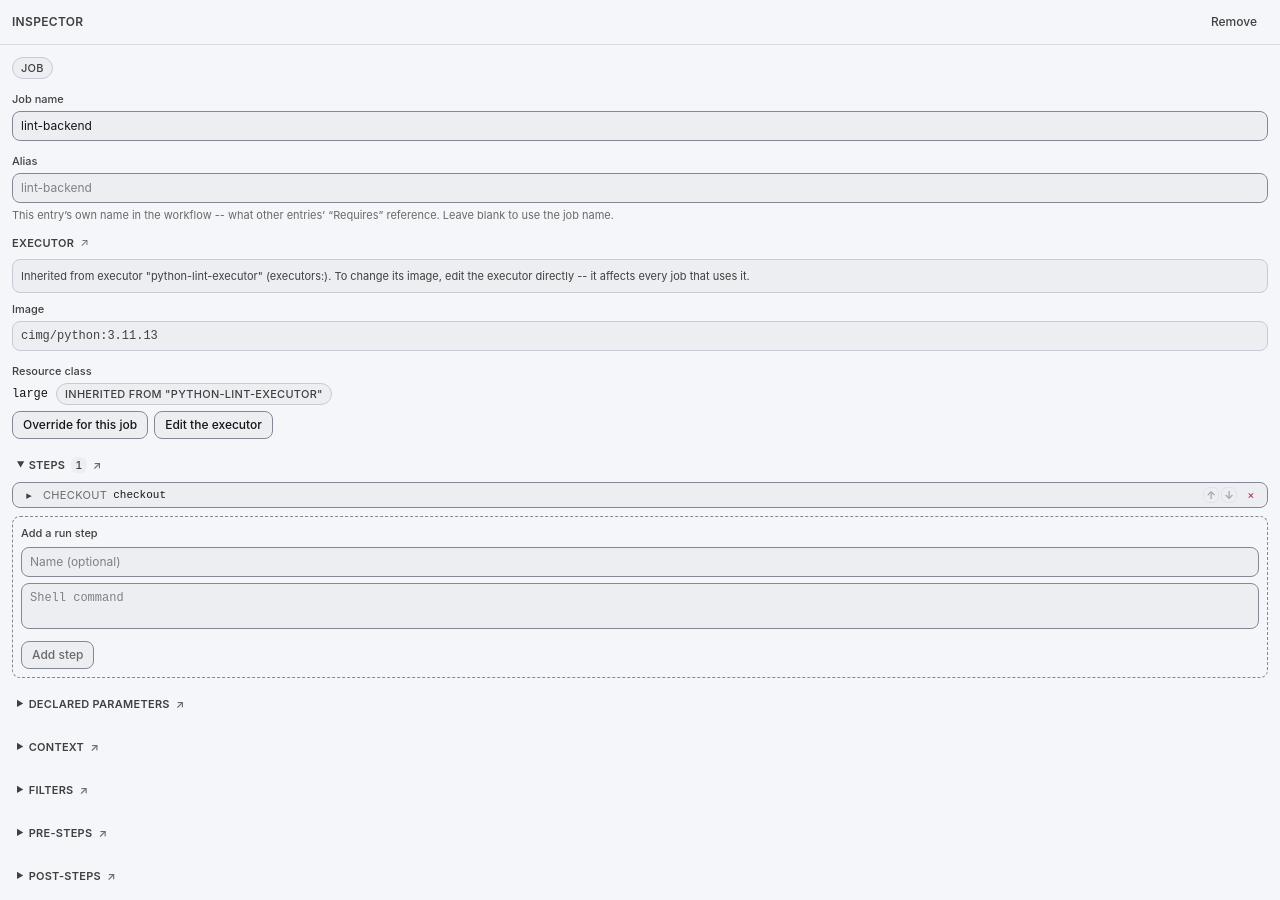
Inspector -- executor resolution (issue #27) › offers CircleCI’s resource tables, grouped by execution environment, not the schema enum
Click the button "Override for this job" at point(80, 425), box [12, 411, 148, 439]
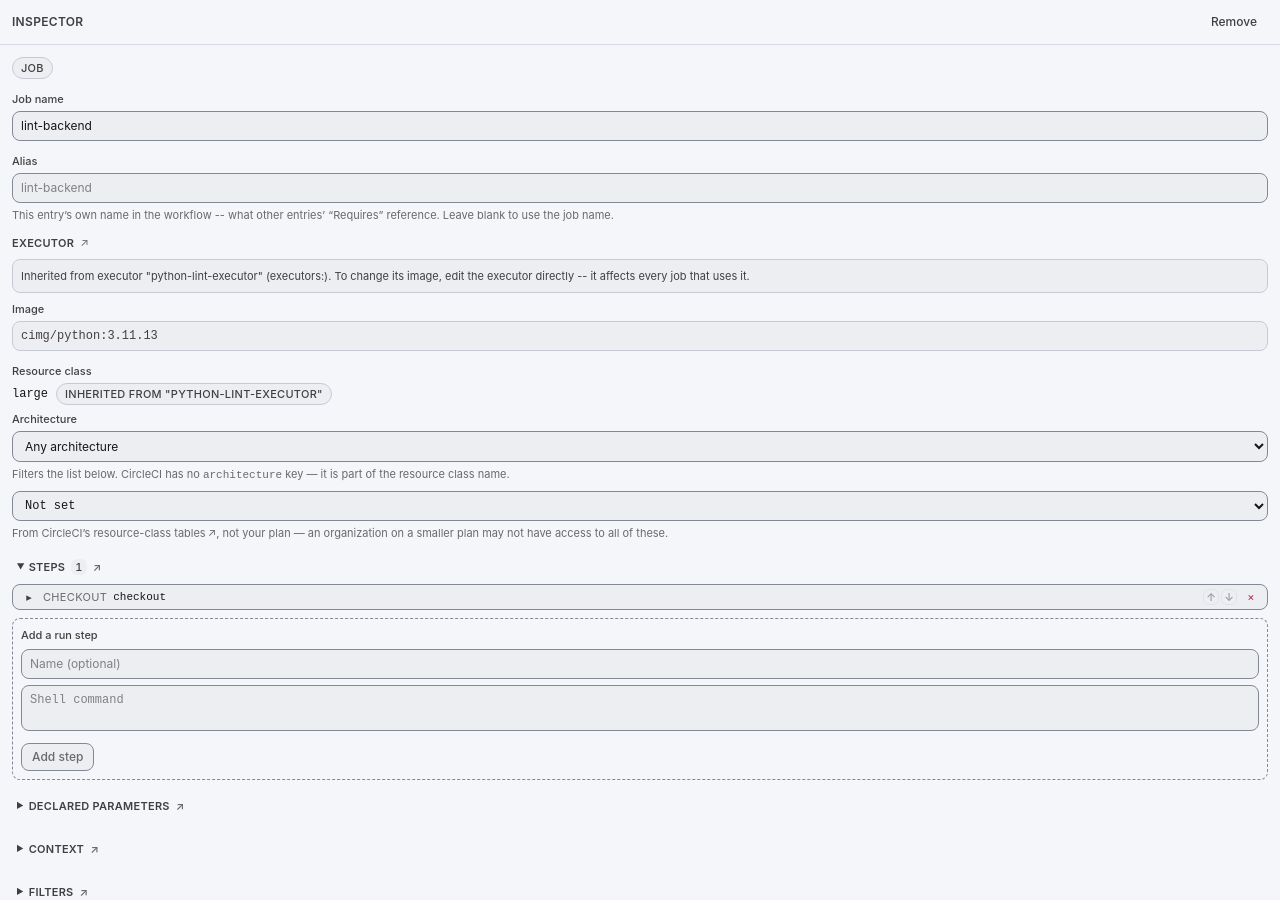
Result: the text "not your plan" shows "CircleCI’s resource-class tables" at [42, 526, 206, 540]
